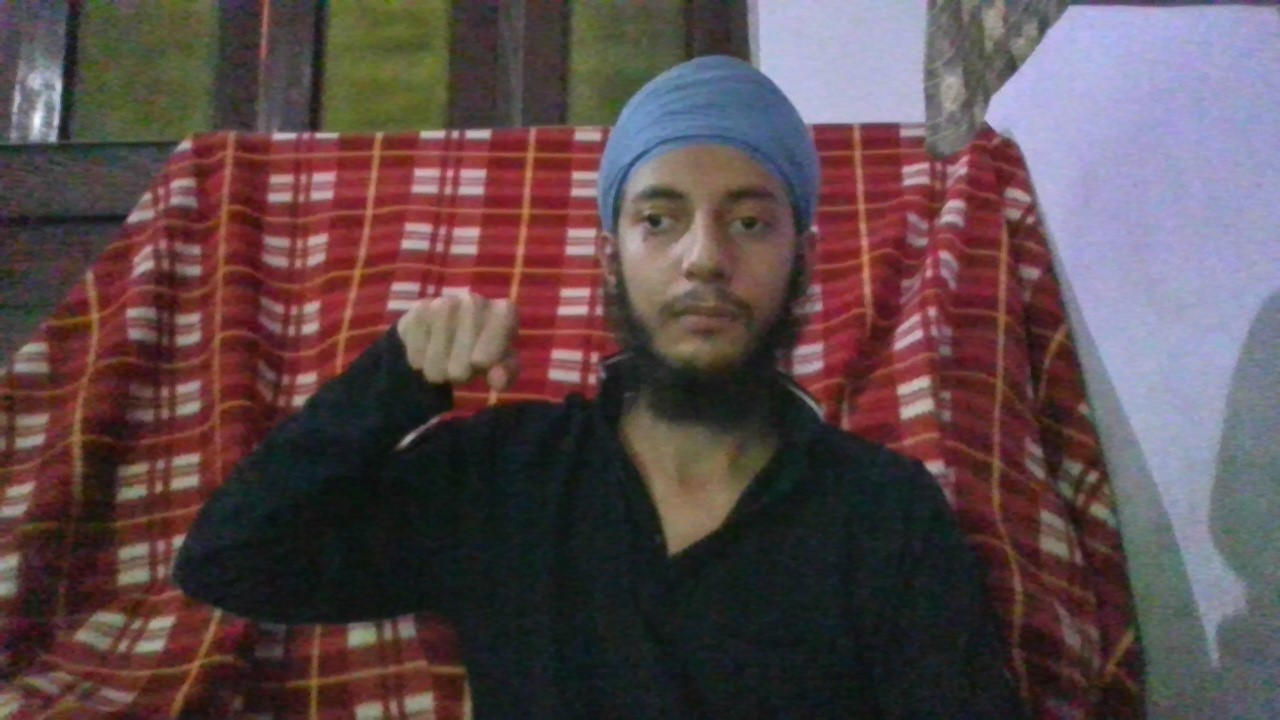Yes: (400, 294, 517, 396)
